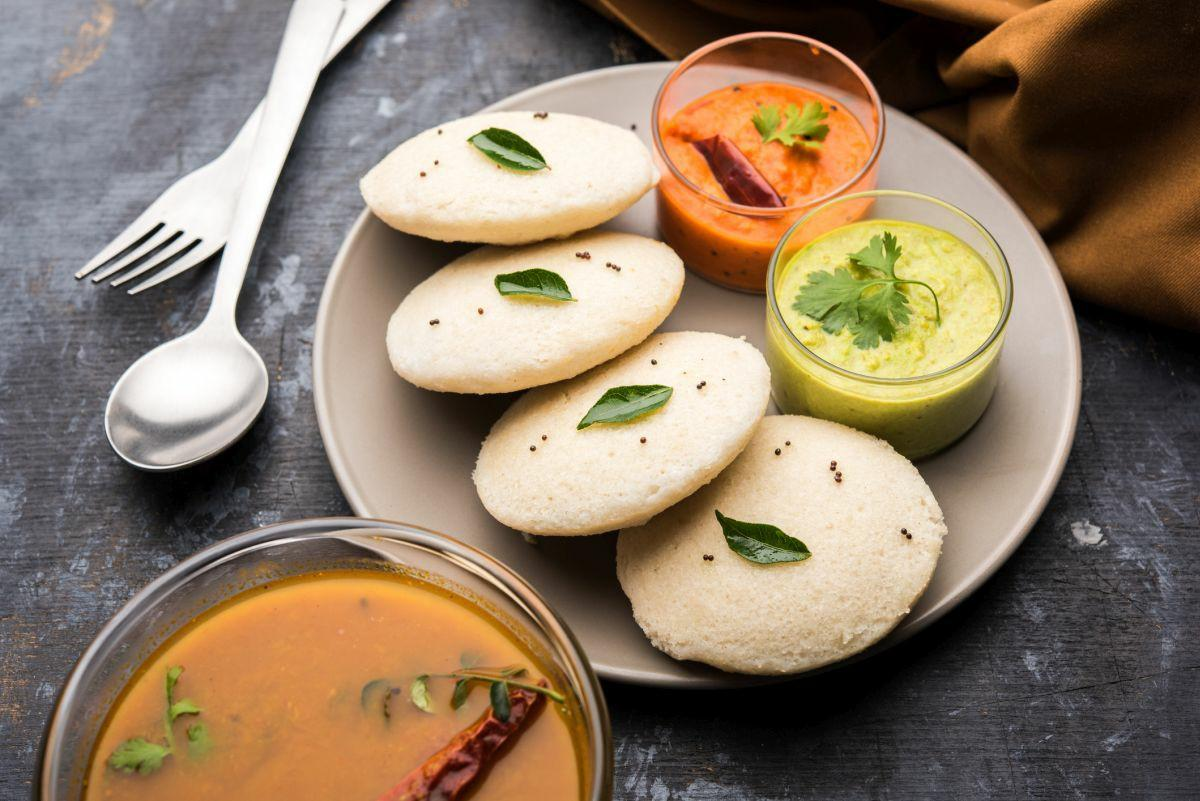Idli: (615, 412, 951, 680), (475, 326, 769, 536), (382, 229, 685, 398), (355, 107, 665, 248)
